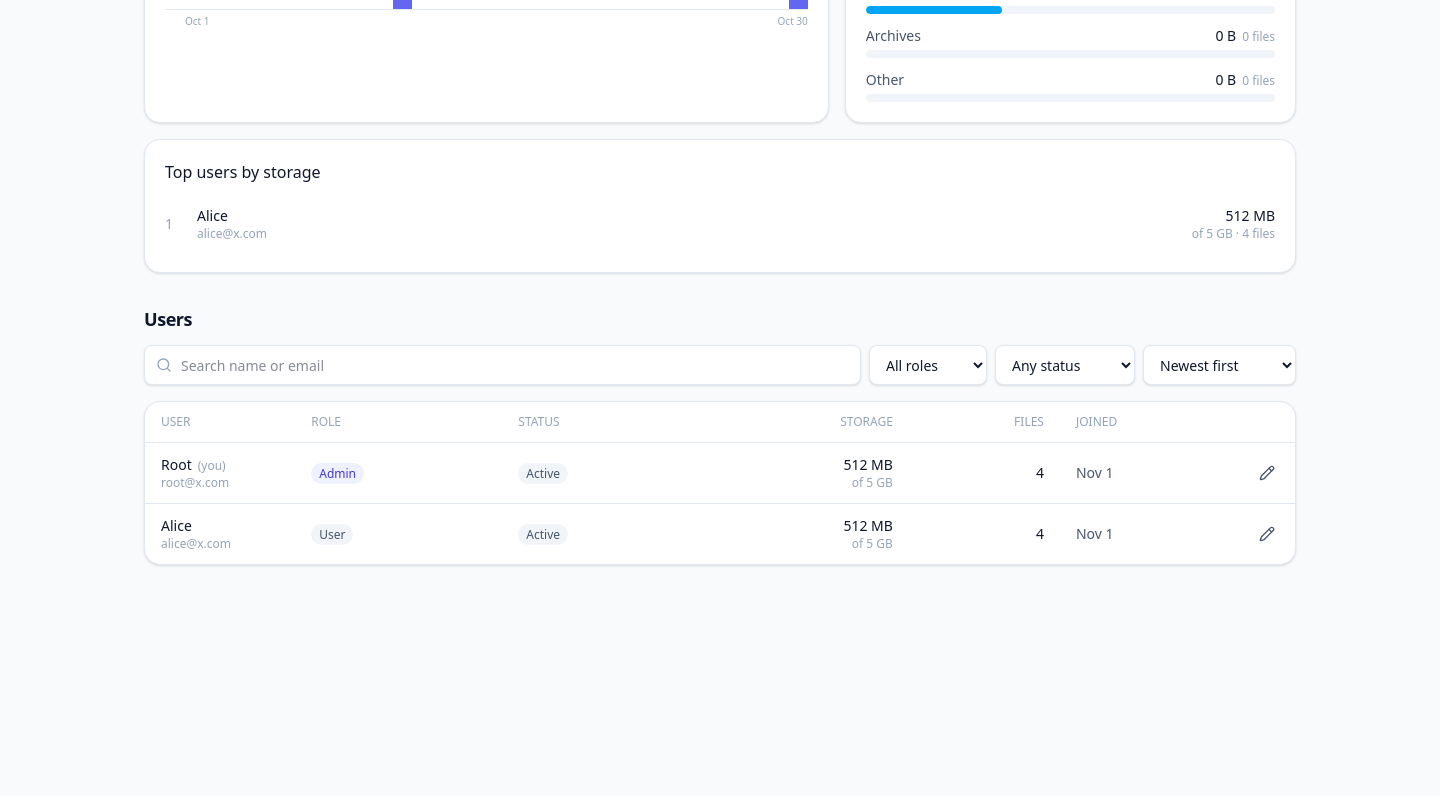
it: editing a user › sends only what changed, with the limit converted from GB to bytes
The width and height of the screenshot is (1440, 796).
(page scrolled)
Click the button named "Edit Alice" at (1267, 534), box [1247,518,1287,550]
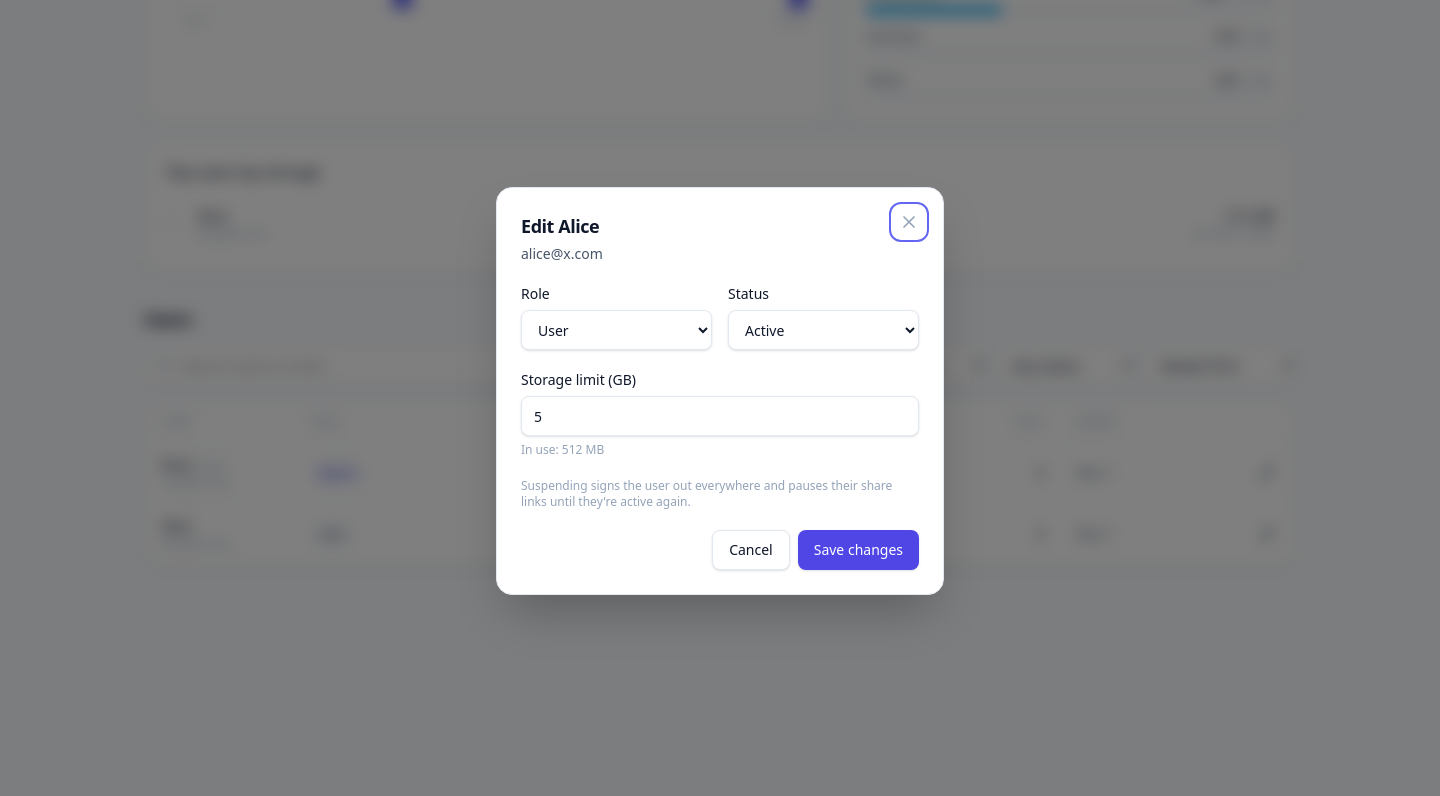
Expected: the text "In use: 512 MB" is shown, [521,441,604,458]
Select "Admin" in the dropdown labelled "Role" at (616, 330), box [521,310,712,350]
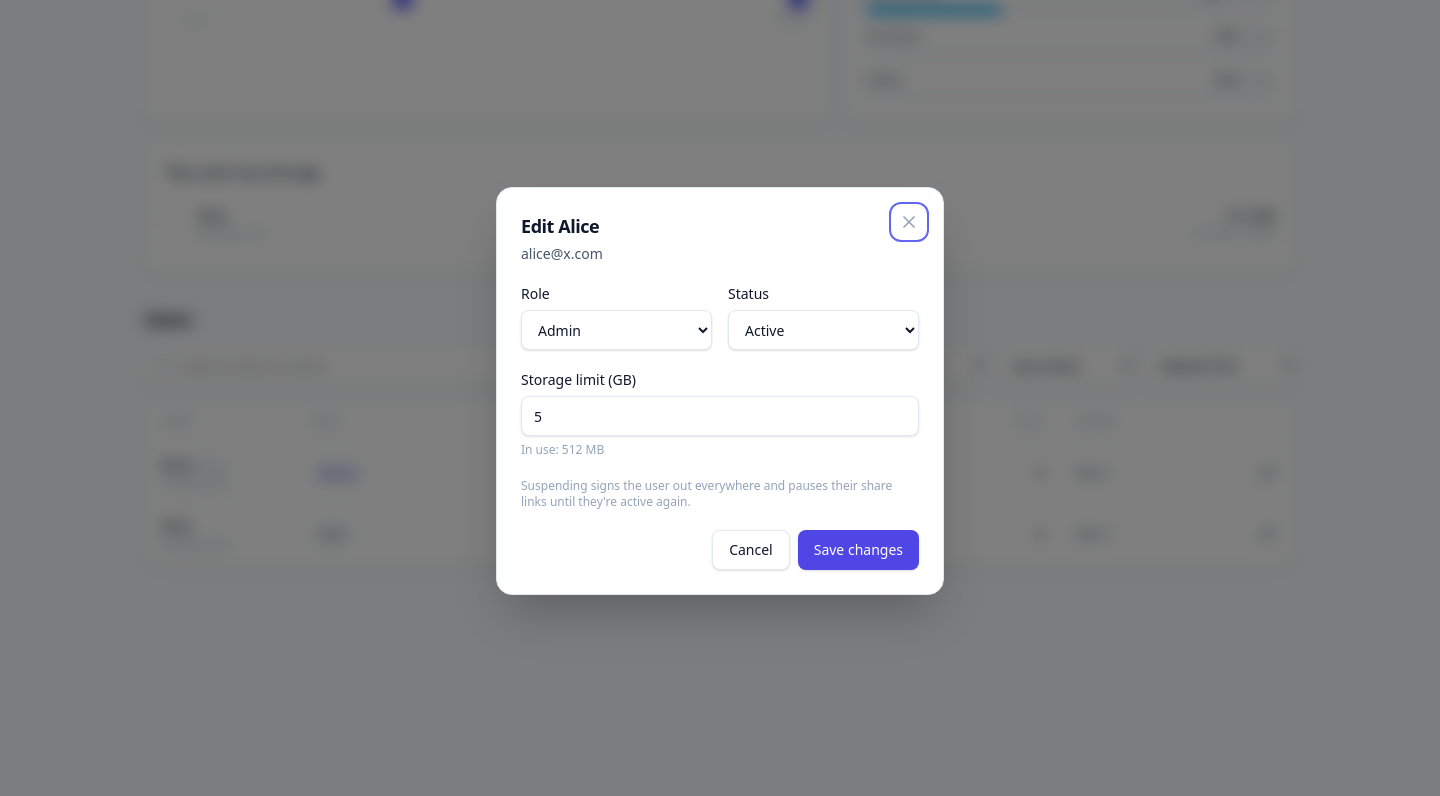
Replace the text in the number field labelled "Storage limit (GB)" with "2.5" at (720, 416), box [521,396,919,436]
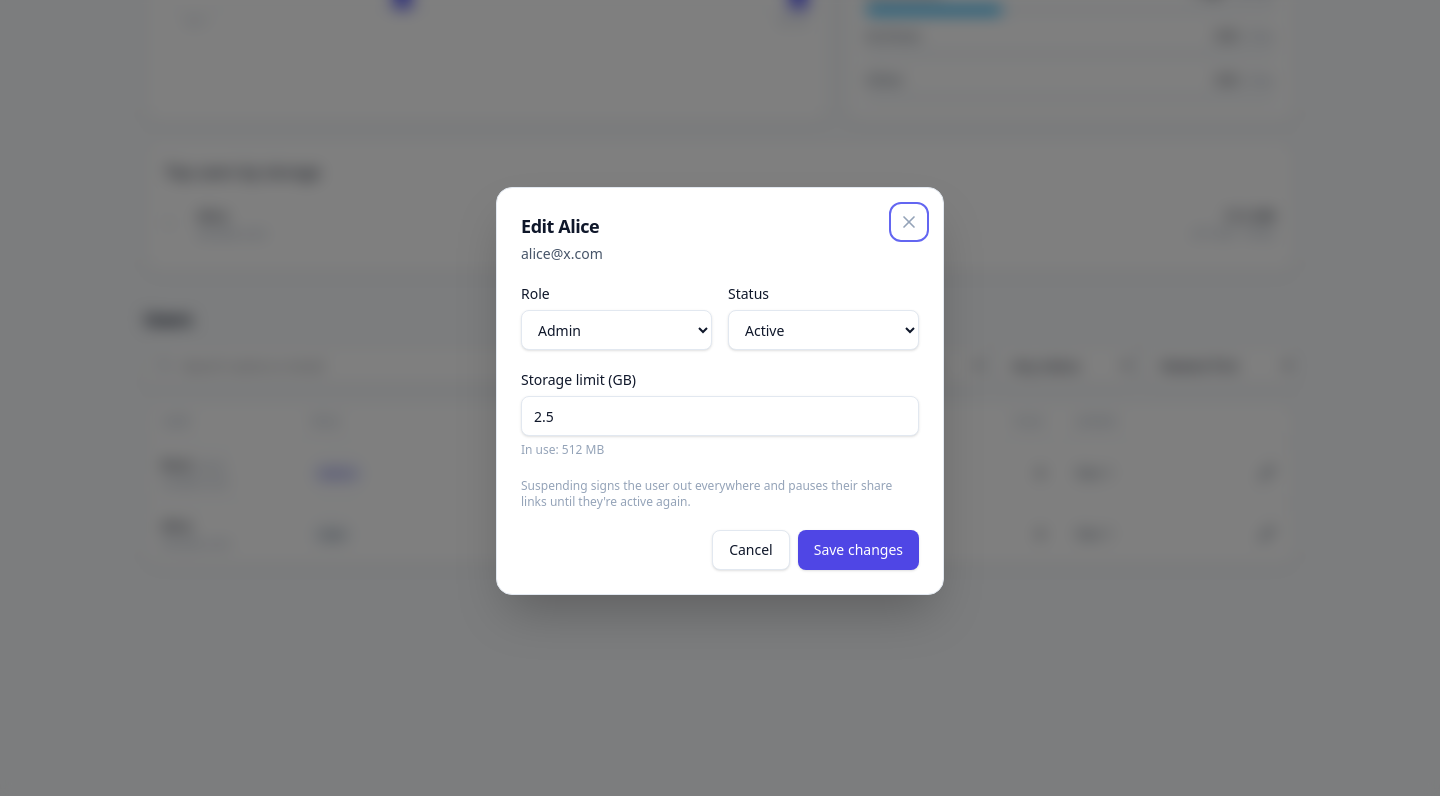
Click the button "Save changes" at (858, 550), box [798,530,919,570]
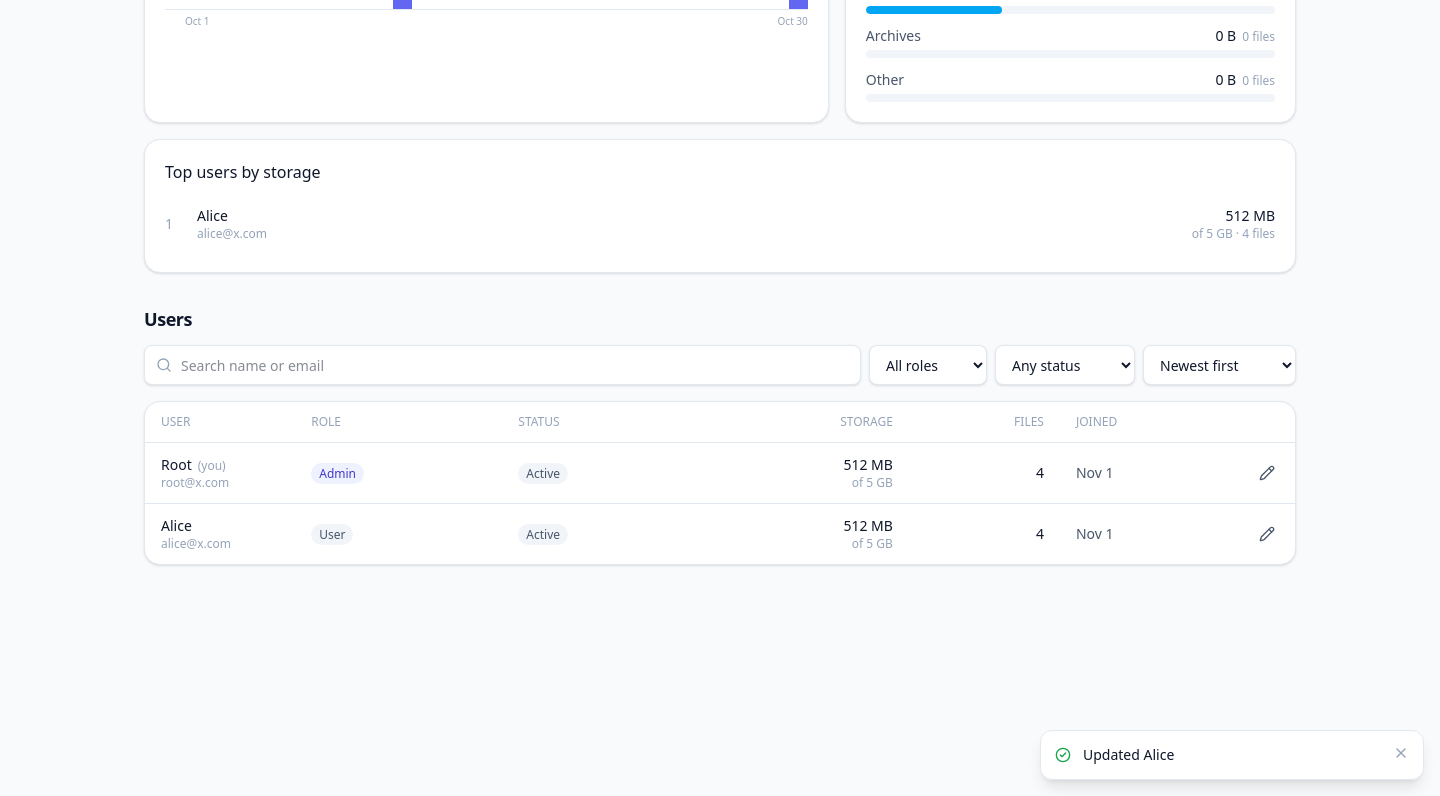
Expected: the text "Updated Alice" is shown, [1083,745,1174,764]
